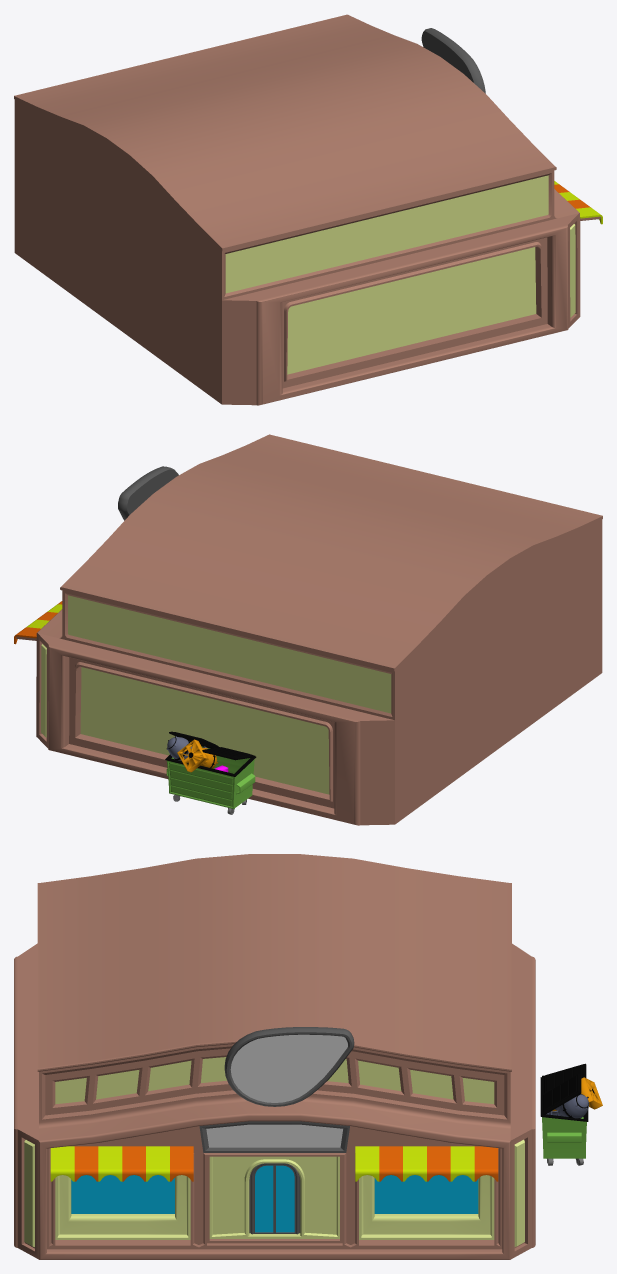
File: BombResturant.glb
3 renders of one model, top to bottom at view 1: azimuth 30°, elevation 25°; view 2: azimuth 150°, elevation 25°; view 3: azimuth 270°, elevation 25°, orthographic. The views are drawn at different scales.
Visible parts, largest first — view 1: Cube; view 2: Cube, Cube.021, fatman.001; view 3: Cube, Cube.021, fatman.
Part boxes in pixels (x1,y1,x2,y2): Cube: [14, 14, 602, 405]; Cube: [14, 434, 602, 825]; Cube.021: [165, 731, 256, 814]; fatman.001: [177, 739, 218, 772]; Cube: [14, 854, 535, 1259]; Cube.021: [540, 1063, 588, 1165]; fatman: [546, 1094, 588, 1118].
Size of the model in its own units: 16.02 by 7.77 by 18.6.
Materials: 17 (2 with a texture image).
